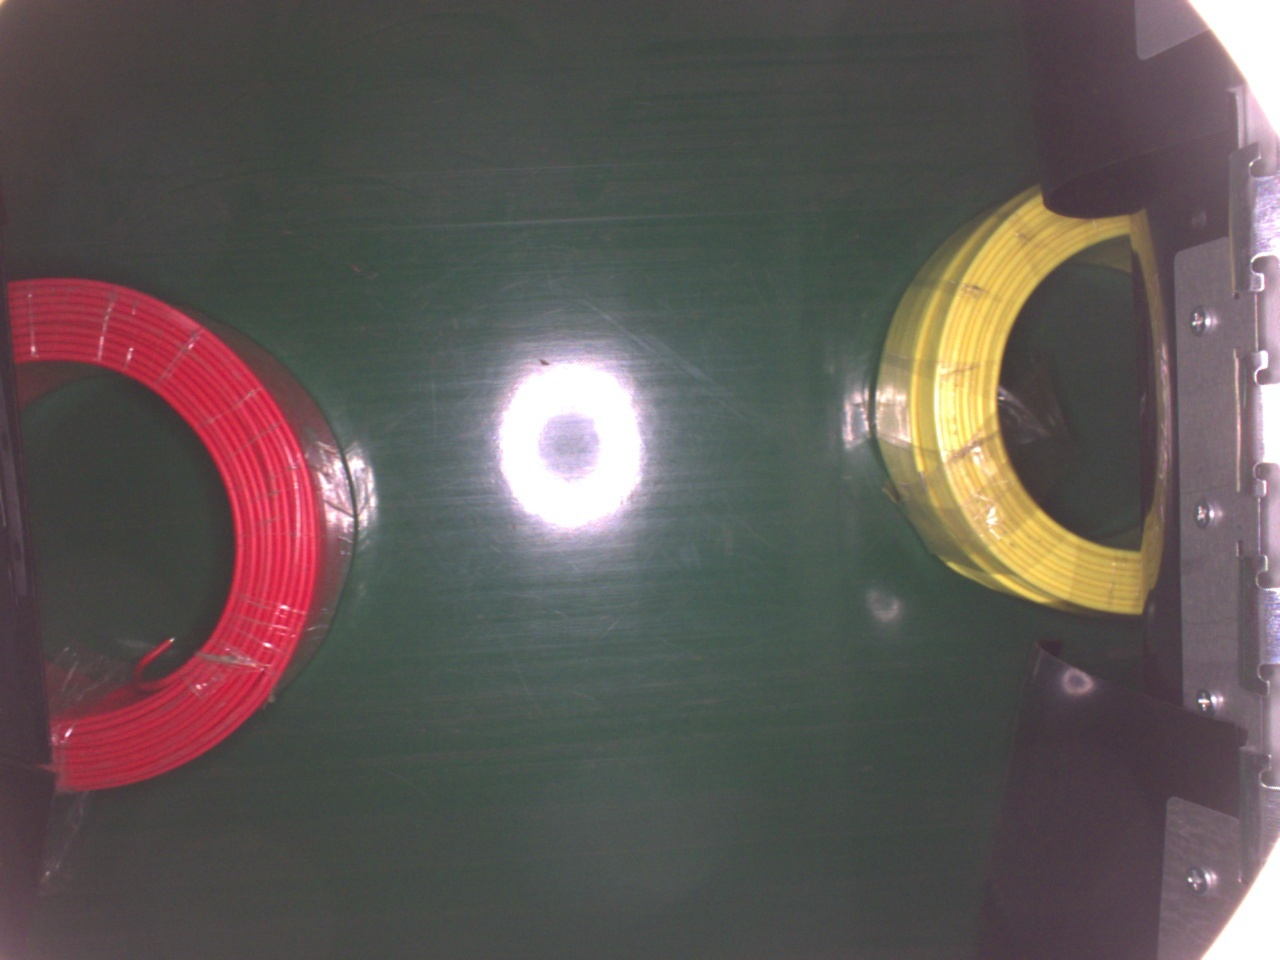red: (5, 271, 354, 792)
yellow: (871, 181, 1163, 618)
